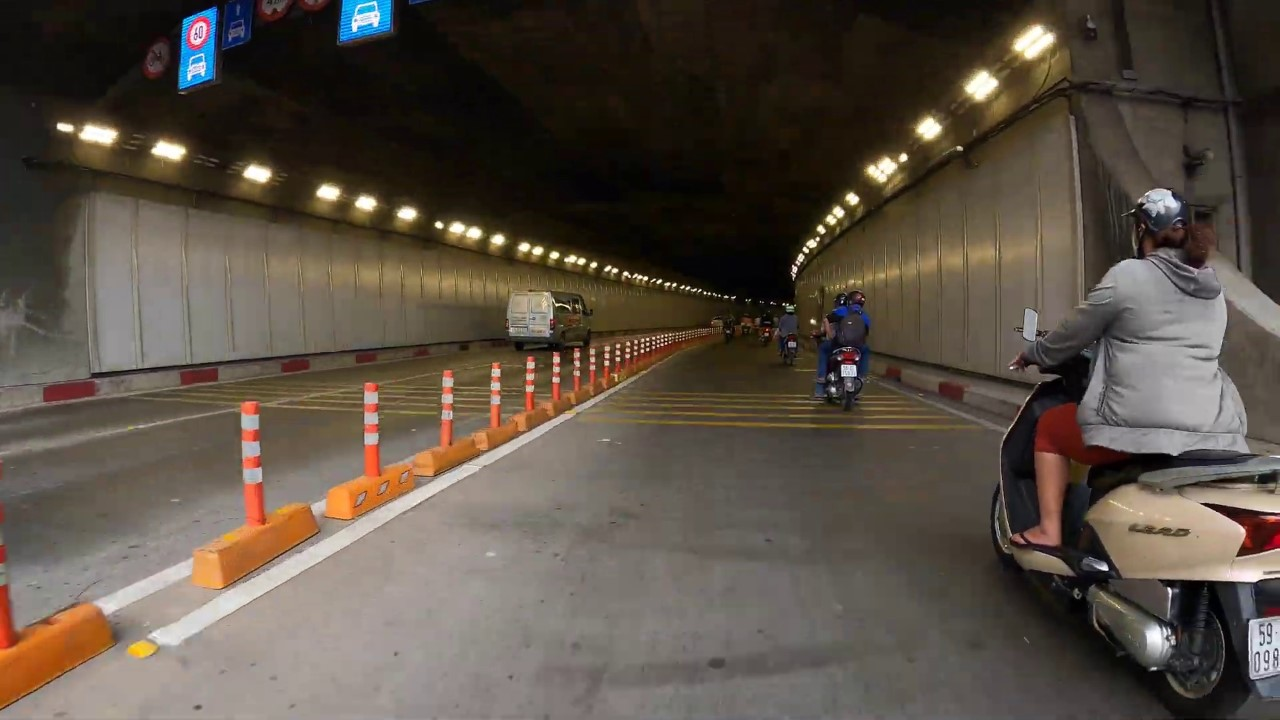gioi_han_60km: (186, 16, 211, 51)
